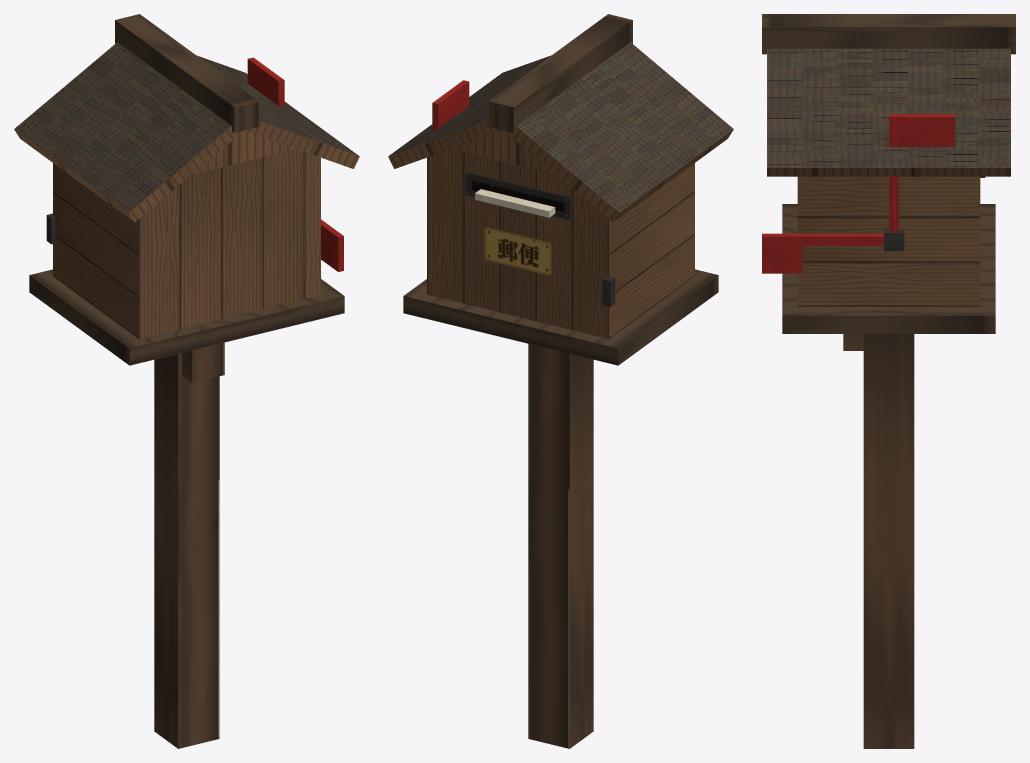
Rendered from Mailbox.obj.
The picture shows the model from 3 angles, left to right: view 1: azimuth 30°, elevation 25°; view 2: azimuth 150°, elevation 25°; view 3: azimuth 270°, elevation 25°; orthographic projection. The views are drawn at different scales.
Parts seen in each view (by area): view 1: MailboxBody, FlagUp, FlagDown; view 2: MailboxBody, FlagUp, Letter; view 3: MailboxBody, FlagDown, FlagUp.
Boxes of the visible parts, bbox=[...] form: MailboxBody: bbox=[14, 14, 359, 748]; FlagUp: bbox=[247, 57, 284, 107]; FlagDown: bbox=[321, 219, 343, 271]; MailboxBody: bbox=[388, 14, 733, 748]; FlagUp: bbox=[432, 80, 469, 130]; Letter: bbox=[475, 189, 555, 217]; MailboxBody: bbox=[762, 14, 1015, 748]; FlagDown: bbox=[762, 228, 904, 273]; FlagUp: bbox=[889, 114, 954, 231].
Bounding box in the file's own units: 0.56 × 1.56 × 0.5.
Materials: 1 (1 with a texture image).
